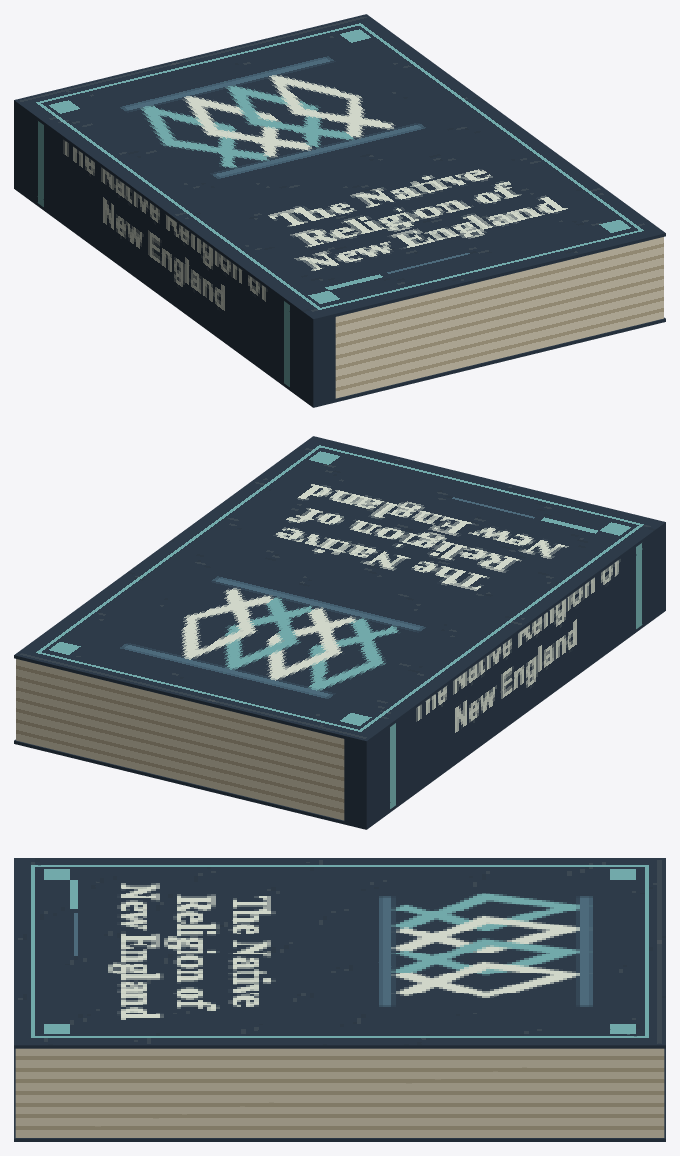
File: holybook_native.glb
3 views of the same model, one above another, from view 1: azimuth 30°, elevation 25°; view 2: azimuth 150°, elevation 25°; view 3: azimuth 270°, elevation 25° (orthographic). The views are drawn at different scales.
Parts seen in each view (by area): view 1: block_front cover, block_page block, block_spine, block_back cover; view 2: block_front cover, block_page block, block_spine, block_back cover; view 3: block_front cover, block_page block, block_back cover.
Part boxes in pixels (bbox=[...]): block_front cover: bbox=[14, 14, 665, 322]; block_page block: bbox=[335, 237, 663, 398]; block_spine: bbox=[14, 103, 335, 404]; block_back cover: bbox=[14, 186, 665, 407]; block_front cover: bbox=[14, 436, 665, 744]; block_page block: bbox=[16, 659, 344, 820]; block_spine: bbox=[344, 525, 665, 826]; block_back cover: bbox=[14, 608, 665, 829]; block_front cover: bbox=[14, 858, 665, 1048]; block_page block: bbox=[15, 1048, 664, 1137]; block_back cover: bbox=[14, 1048, 665, 1141].
Size of the model in its own units: 0.1414 by 0.034 by 0.208.
1 material, 1 textured.
